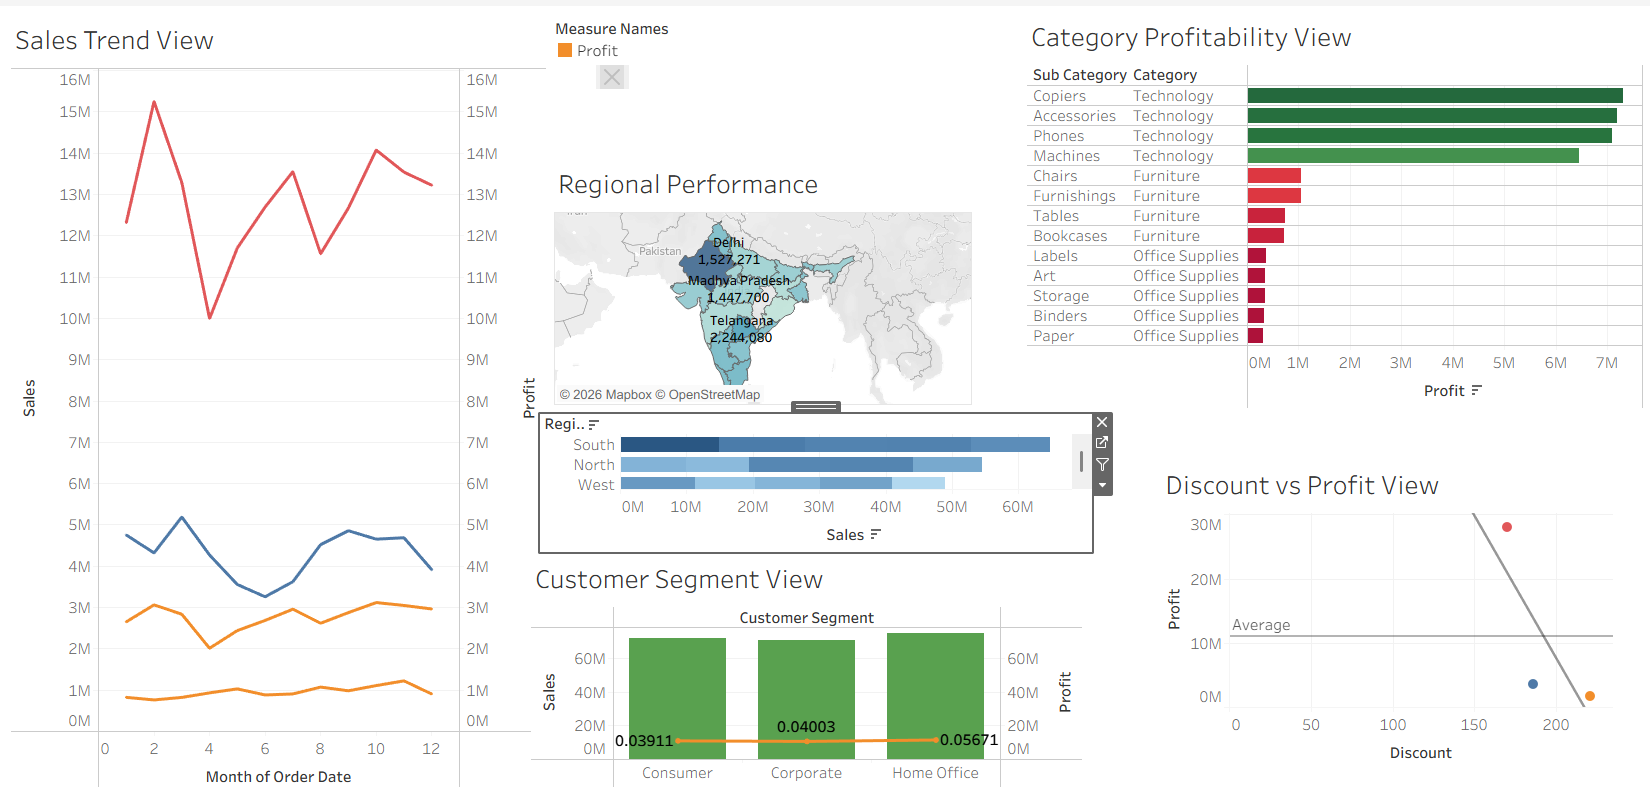

This screenshot's page, from the dashboard's own definition file:
{"tool":"tableau","page":{"name":"Dashboard 1","canvas":[1000,1000],"units":"permille","ordinal":0},"visuals":[{"type":"worksheet","title":"Sales Trend View","mark":"Line","rows":["sales","profit"],"cols":["order_date"],"box":[4.8,10,328.3,980]},{"type":"legend","title":"Sales Trend View","param":"[federated.0xp89jr10o78d712qgw9305ejwiq].[:Measure Names]","box":[333.1,10,662,63.7]},{"type":"worksheet","title":"Category Profitability View","mark":"Automatic","rows":["sub_category","category"],"cols":["profit"],"box":[620.4,11.2,371.8,523.1]},{"type":"dashboard-object","box":[360,73.8,20,30]},{"type":"worksheet","title":"Regional Performance View","mark":"Multipolygon","box":[334.9,194.8,252.3,303.4]},{"type":"worksheet","title":"Regional Performance View (2)","mark":"Bar","rows":["region"],"cols":["sales"],"box":[326.5,509.4,333.1,172.3]},{"type":"worksheet","title":" Discount vs Profit View","mark":"Circle","rows":["profit"],"cols":["discount"],"box":[698.2,570.5,275.8,383.3]},{"type":"worksheet","title":"Customer Segment View","mark":"Automatic","rows":["sales","profit"],"cols":["customer_segment"],"box":[321.1,687.9,333.1,303.4]}]}

Visuals, with their boxes on the dashboard's canvas, which has no fixed pixel size, in thousandths of its width and height (x1, y1, x2, y2). These are canvas units, not pixel positions in the 1650x787 screenshot, which may show the page scaled, cropped or inside an application window:
"Sales Trend View" worksheet (Line marks): crop(5, 10, 333, 990)
"Sales Trend View" legend: crop(333, 10, 995, 74)
"Category Profitability View" worksheet: crop(620, 11, 992, 534)
dashboard-object: crop(360, 74, 380, 104)
"Regional Performance View" worksheet (Multipolygon marks): crop(335, 195, 587, 498)
"Regional Performance View (2)" worksheet (Bar marks): crop(326, 509, 660, 682)
" Discount vs Profit View" worksheet (Circle marks): crop(698, 570, 974, 954)
"Customer Segment View" worksheet: crop(321, 688, 654, 991)
